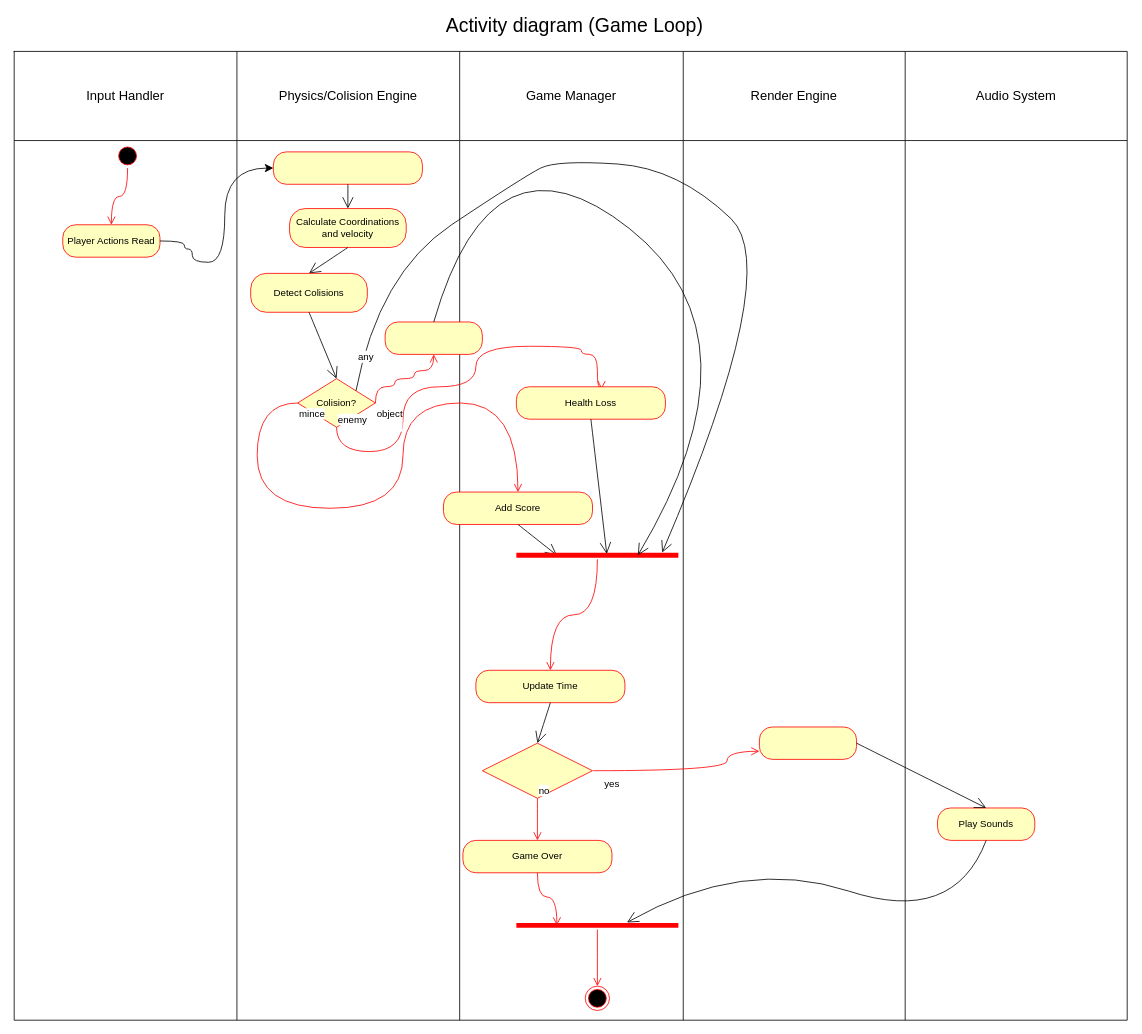
The diagram is 1142 pixels wide and 1034 high, and some of its shapes have lost their labels. Here are the shapes that lost their labels. From the top down, the centre of each, then its label:
[347,167]: Apply Gravity
[433,337]: Stop Movement
[808,742]: Render Frame
[537,770]: Time>0, Live?
